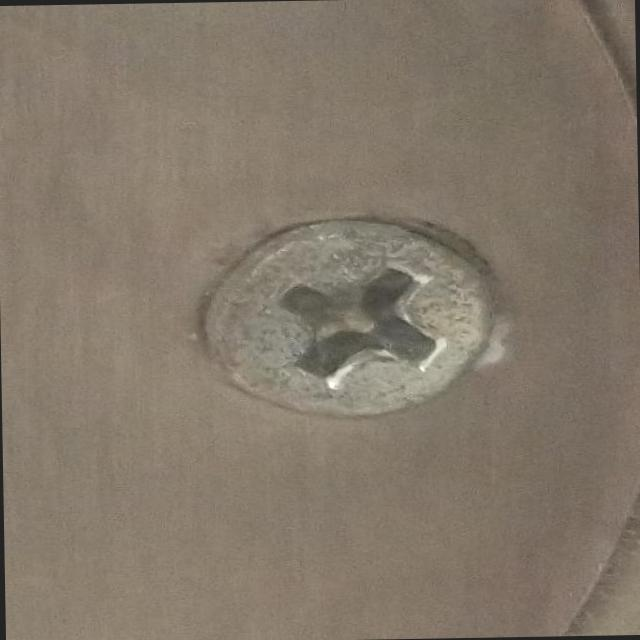Phillips: (251, 218, 486, 414)
